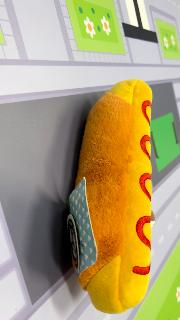hotdog: (68, 78, 154, 314)
